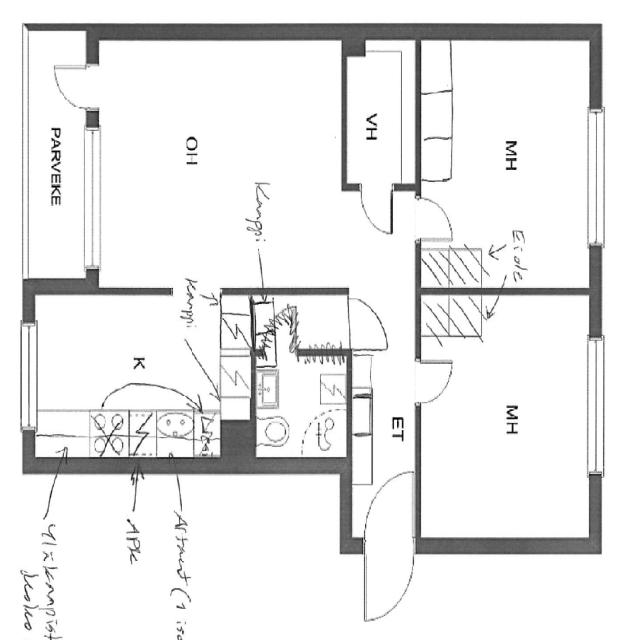door: (364, 528, 416, 622), (365, 468, 417, 530), (50, 53, 96, 112), (412, 190, 457, 247), (353, 180, 398, 237), (345, 290, 386, 352), (412, 354, 457, 406)
window: (579, 95, 614, 258), (76, 111, 110, 278), (580, 329, 614, 480), (15, 314, 40, 439)
zone: (94, 36, 349, 290), (416, 288, 599, 547), (416, 35, 598, 286), (29, 290, 225, 460), (252, 293, 352, 464), (345, 37, 417, 188)
